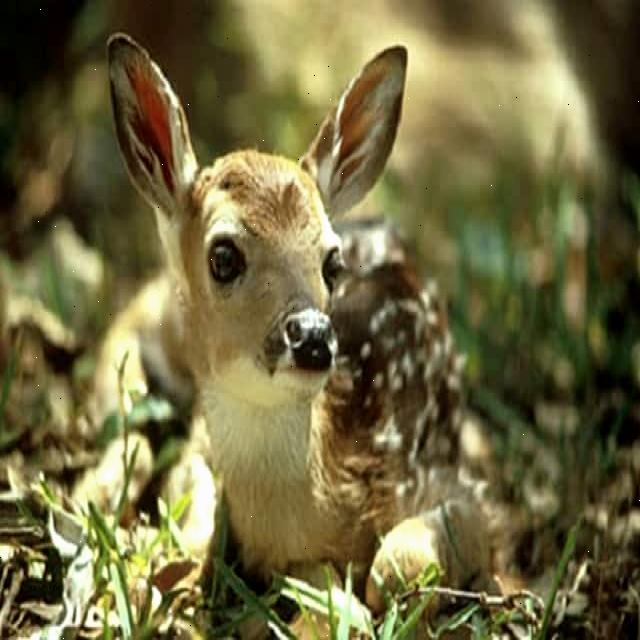deer: (76, 5, 452, 404)
